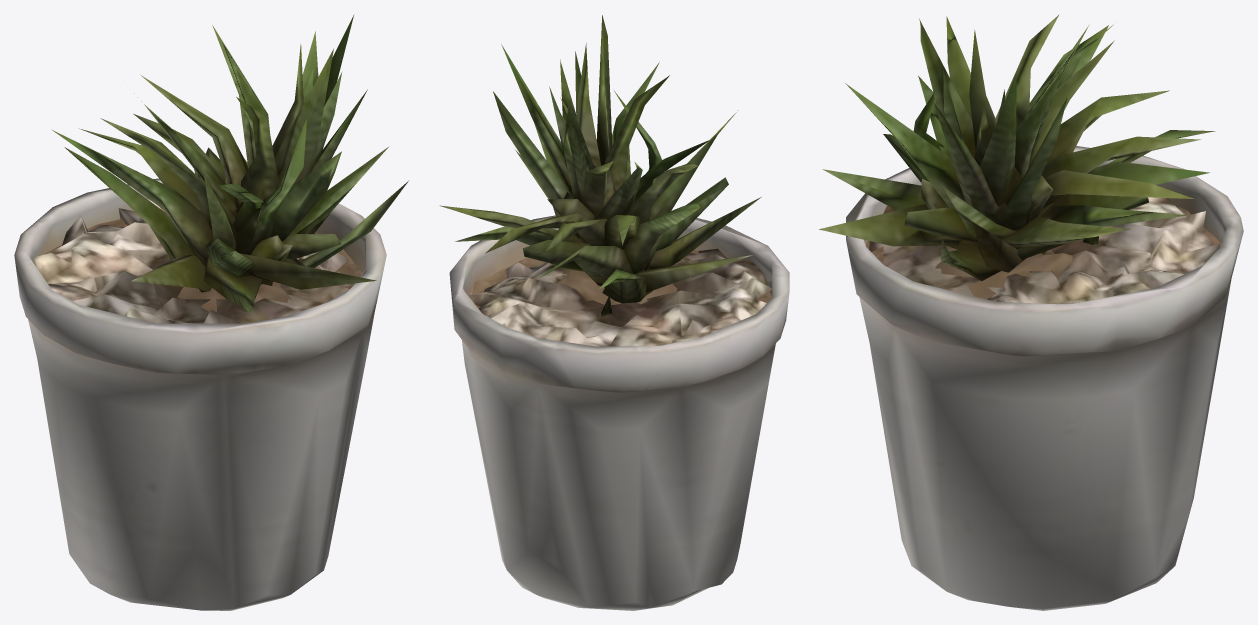
Rendered from succulent.glb.
The picture shows the model from 3 angles, left to right: view 1: azimuth 30°, elevation 25°; view 2: azimuth 150°, elevation 25°; view 3: azimuth 270°, elevation 25°; orthographic projection. The views are drawn at different scales.
Visible parts, largest first — view 1: potted_plant_04_pot, potted_plant_04_plant, potted_plant_04_ground, potted_plant_04_dirt; view 2: potted_plant_04_pot, potted_plant_04_plant, potted_plant_04_ground, potted_plant_04_dirt; view 3: potted_plant_04_pot, potted_plant_04_plant, potted_plant_04_ground, potted_plant_04_dirt.
Part boxes in pixels (bbox=[...]): potted_plant_04_pot: bbox=[14, 178, 386, 610]; potted_plant_04_plant: bbox=[51, 14, 408, 312]; potted_plant_04_ground: bbox=[33, 198, 351, 323]; potted_plant_04_dirt: bbox=[44, 211, 362, 312]; potted_plant_04_pot: bbox=[449, 215, 789, 610]; potted_plant_04_plant: bbox=[439, 15, 761, 317]; potted_plant_04_ground: bbox=[468, 248, 772, 346]; potted_plant_04_dirt: bbox=[471, 249, 772, 375]; potted_plant_04_pot: bbox=[846, 146, 1243, 610]; potted_plant_04_plant: bbox=[819, 14, 1215, 281]; potted_plant_04_ground: bbox=[869, 197, 1219, 303]; potted_plant_04_dirt: bbox=[865, 206, 1221, 299].
Size of the model in its own units: 0.1665 by 0.2671 by 0.1783.
Materials: 1 (1 with a texture image).
